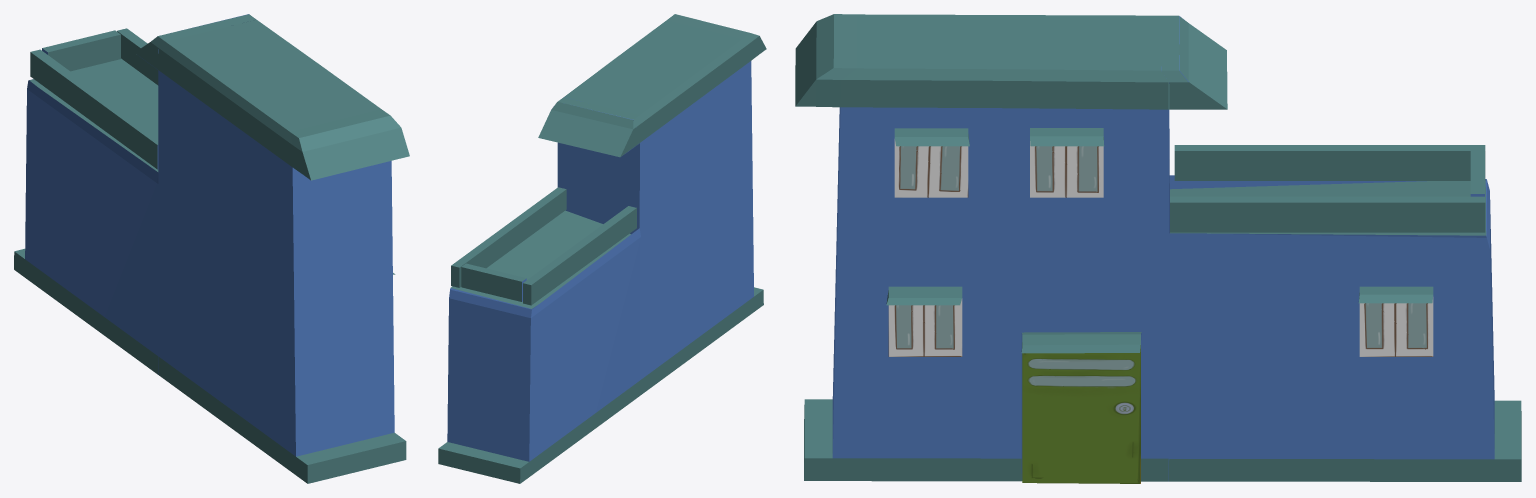
Rendered from gebouw1 (1).fbx.
The picture shows the model from 3 angles, left to right: view 1: azimuth 30°, elevation 25°; view 2: azimuth 150°, elevation 25°; view 3: azimuth 270°, elevation 25°; orthographic projection. The views are drawn at different scales.
Visible parts, largest first — view 1: Cube; view 2: Cube; view 3: Cube.
Boxes of the visible parts, x1=… form: Cube: x1=14, y1=14, x2=409, y2=483; Cube: x1=438, y1=14, x2=766, y2=483; Cube: x1=795, y1=14, x2=1521, y2=483.
Bounding box in the file's own units: 260 × 653 × 1044.
1 material, 1 textured.
